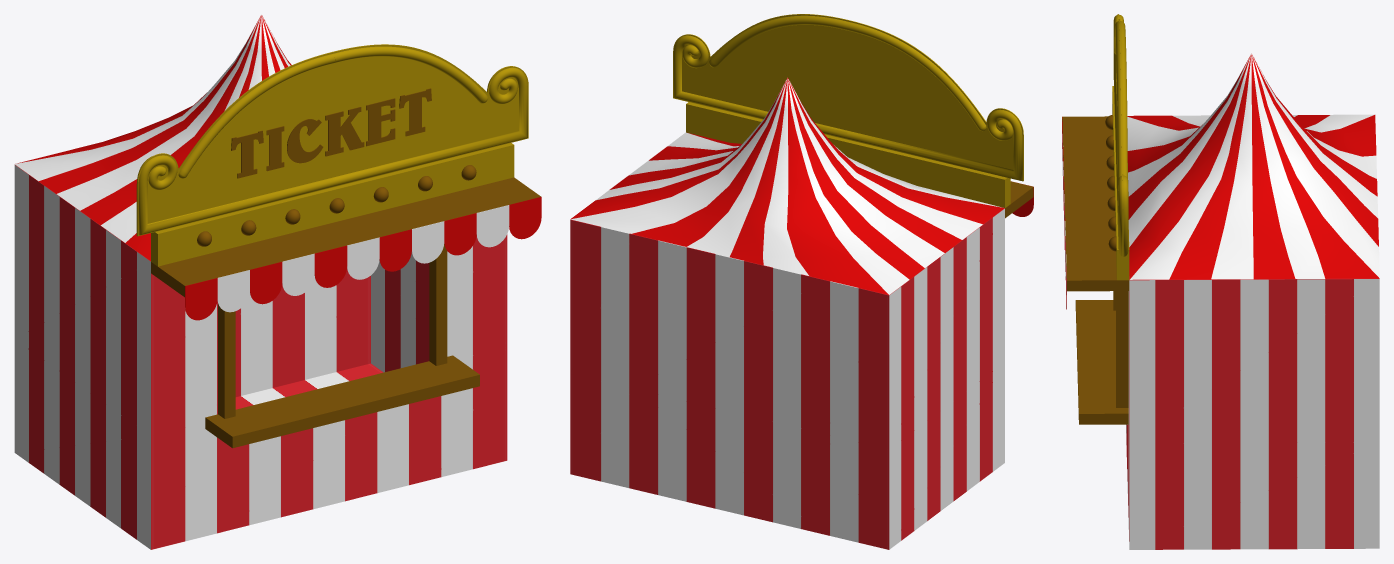
File: amusement_land_ticket.glb
3 views of the same model, side by side, from view 1: azimuth 30°, elevation 25°; view 2: azimuth 150°, elevation 25°; view 3: azimuth 270°, elevation 25° (orthographic). The views are drawn at different scales.
Parts seen in each view (by area): view 1: Shape29.001, Shape2.001, Shape1.001, Shape27.001, Shape26.001, Cone001.001, Cone001_2, Assembly-63, Shape030.001, Shape4.001, Shape28.001, Shape25.001 (+13 smaller); view 2: Shape29.001, Shape2.001, Cone001_2, Cone001.001, Shape1.001, Shape030.001, Shape4.001, Shape031.001, Shape6.001, Shape27.001; view 3: Shape29.001, Cone001_2, Cone001.001, Shape27.001, Shape26.001, Shape28.001, Shape6.001, Shape4.001, Shape1.001, Shape2.001, Shape030.001.
Boxes of the visible parts, x1,y1,x2,y2 form: Shape29.001: [14, 164, 507, 549]; Shape2.001: [136, 44, 528, 236]; Shape1.001: [151, 143, 514, 266]; Shape27.001: [151, 177, 540, 297]; Shape26.001: [205, 355, 479, 448]; Cone001.001: [15, 14, 290, 242]; Cone001_2: [17, 15, 291, 260]; Assembly-63: [231, 88, 431, 178]; Shape030.001: [138, 155, 335, 235]; Shape4.001: [332, 67, 527, 186]; Shape28.001: [429, 244, 447, 365]; Shape25.001: [218, 303, 235, 418]; Shape29.001: [570, 208, 1004, 549]; Shape2.001: [673, 14, 1023, 181]; Cone001_2: [570, 77, 1004, 294]; Cone001.001: [571, 78, 1001, 294]; Shape1.001: [686, 102, 1010, 207]; Shape030.001: [845, 109, 1022, 180]; Shape4.001: [673, 35, 848, 139]; Shape031.001: [846, 21, 986, 131]; Shape6.001: [709, 15, 847, 67]; Shape27.001: [1005, 181, 1033, 218]; Shape29.001: [1126, 276, 1379, 549]; Cone001_2: [1127, 54, 1379, 279]; Cone001.001: [1127, 53, 1379, 279]; Shape27.001: [1062, 116, 1129, 291]; Shape26.001: [1075, 300, 1128, 424]; Shape28.001: [1116, 291, 1128, 407]; Shape6.001: [1116, 42, 1127, 184]; Shape4.001: [1116, 160, 1128, 256]; Shape1.001: [1112, 86, 1129, 280]; Shape2.001: [1117, 14, 1123, 257]; Shape030.001: [1113, 14, 1123, 162].
Size of the model in its own units: 0.3401 by 0.376 by 0.2538.
Materials: 24 (1 with a texture image).
